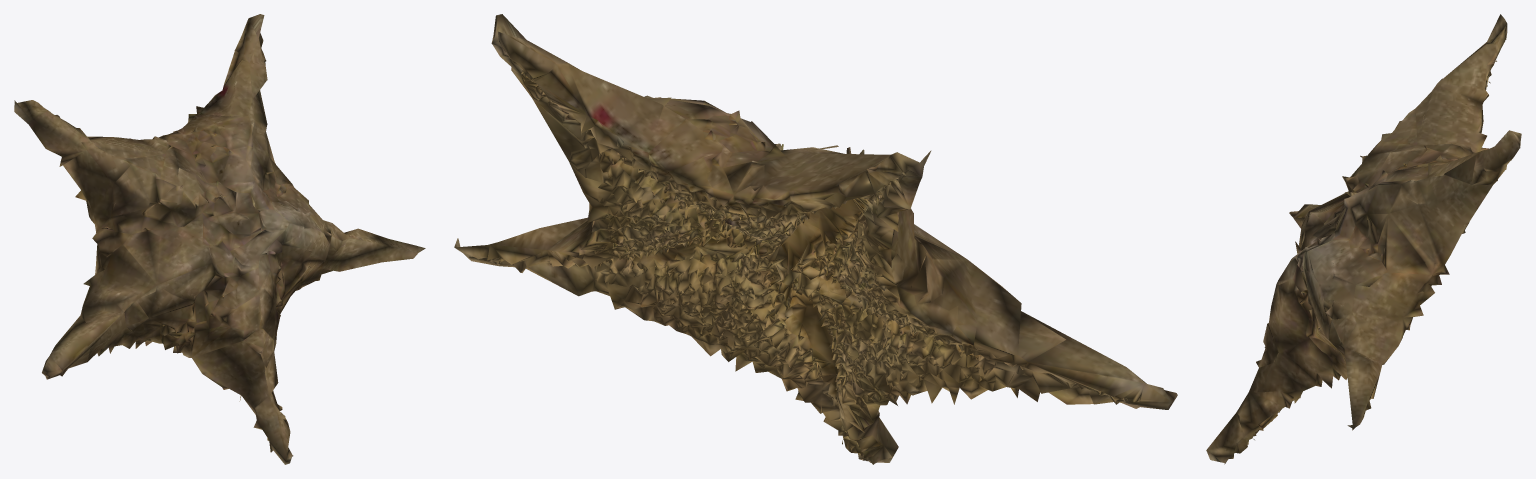
File: star-cushion.glb
3 views of the same model, side by side, from view 1: azimuth 30°, elevation 25°; view 2: azimuth 150°, elevation 25°; view 3: azimuth 270°, elevation 25° (orthographic). The views are drawn at different scales.
Visible parts, largest first — view 1: Object_2; view 2: Object_2; view 3: Object_2.
Part boxes in pixels (left/top/right/bottom): Object_2: left=14, top=14, right=425, bottom=464; Object_2: left=454, top=14, right=1177, bottom=464; Object_2: left=1206, top=14, right=1521, bottom=464.
Size of the model in its own units: 225 by 178 by 131.
Materials: 1 (1 with a texture image).
